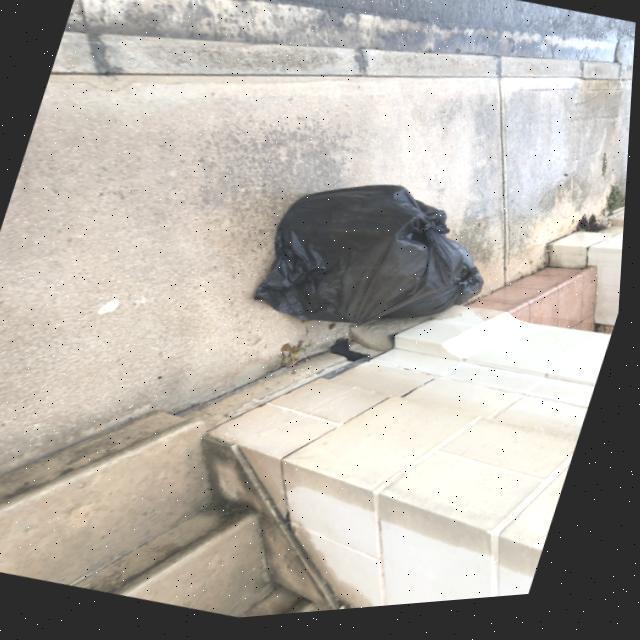Mixed Waste -Black Bag-: (251, 158, 490, 367), (422, 241, 499, 321)
